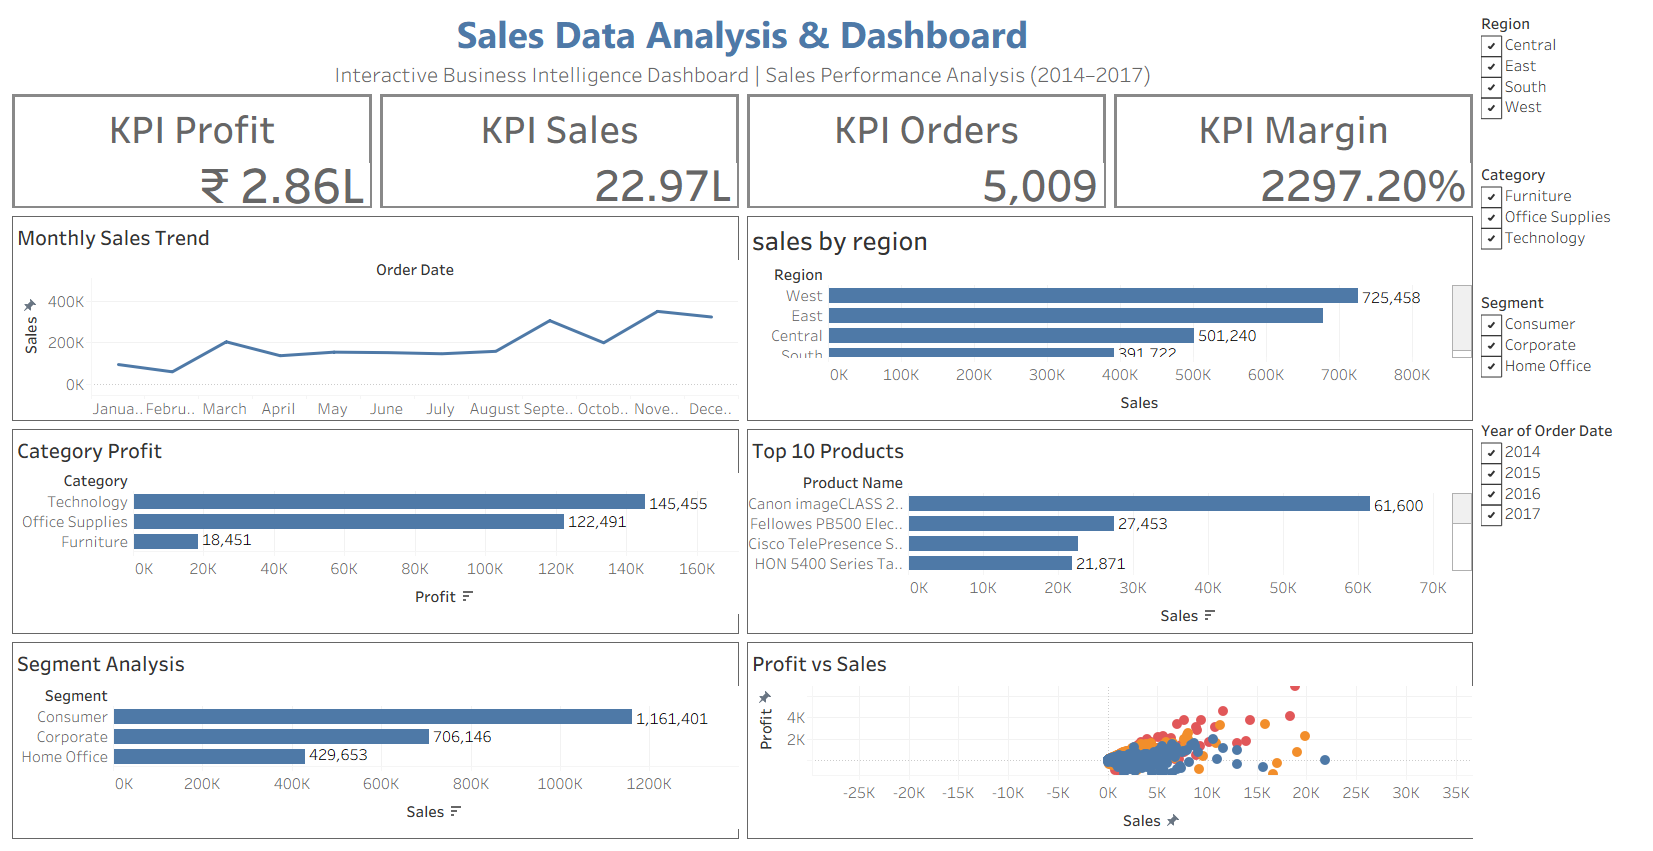

What the dashboard file says about the page in this screenshot:
{"tool":"tableau","page":{"name":"Sales Data Analysis Dashboard","canvas":[1000,1000],"units":"permille","ordinal":0},"visuals":[{"type":"text","box":[4.8,9.4,888.7,58.8]},{"type":"filter","title":"sales by region","param":"[federated.1exz7og119kxcv17dqa1x114gwuo].[none:Region:nk]","box":[893.5,9.4,101.6,177.4]},{"type":"text","box":[4.8,68.2,888.7,37.6]},{"type":"worksheet","title":"KPI Profit","mark":"Automatic","box":[4.8,105.8,222.6,143.4]},{"type":"worksheet","title":"KPI Sales","mark":"Automatic","box":[227.5,105.8,222,143.4]},{"type":"worksheet","title":"KPI Orders","mark":"Automatic","box":[449.5,105.8,222,143.4]},{"type":"worksheet","title":"KPI Margin","mark":"Automatic","box":[671.5,105.8,222,143.4]},{"type":"filter","title":"sales by region","param":"[federated.1exz7og119kxcv17dqa1x114gwuo].[none:Category:nk]","box":[893.5,186.8,101.6,150.4]},{"type":"worksheet","title":"Monthly Sales Trend","mark":"Automatic","rows":["Sales"],"cols":["Order Date"],"box":[4.8,249.1,444.6,250.3]},{"type":"worksheet","title":"sales by region","mark":"Automatic","rows":["Region"],"cols":["Sales"],"box":[449.4,249.1,444.1,250.3]},{"type":"filter","title":"sales by region","param":"[federated.1exz7og119kxcv17dqa1x114gwuo].[none:Segment:nk]","box":[893.5,337.2,101.6,150.4]},{"type":"filter","title":"sales by region","param":"[federated.1exz7og119kxcv17dqa1x114gwuo].[yr:Order Date:ok]","box":[893.5,487.7,101.6,177.4]},{"type":"worksheet","title":"Category Profit","mark":"Automatic","rows":["Category"],"cols":["Profit"],"box":[4.8,499.4,444.6,250.3]},{"type":"worksheet","title":"Top 10 Products","mark":"Automatic","rows":["Product Name"],"cols":["Sales"],"box":[449.4,499.4,444.1,250.3]},{"type":"worksheet","title":"Segment Analysis","mark":"Automatic","rows":["Segment"],"cols":["Sales"],"box":[4.8,749.7,444.6,240.9]},{"type":"worksheet","title":"Profit vs Sales","mark":"Circle","rows":["Profit"],"cols":["Sales"],"box":[449.4,749.7,444.1,240.9]}]}

Visuals, with their boxes on the dashboard's canvas, which has no fixed pixel size, in thousandths of its width and height (x1, y1, x2, y2). These are canvas units, not pixel positions in the 1653x851 screenshot, which may show the page scaled, cropped or inside an application window:
text: (5,9,894,68)
"sales by region" filter: (894,9,995,187)
text: (5,68,894,106)
"KPI Profit" worksheet: (5,106,227,249)
"KPI Sales" worksheet: (228,106,450,249)
"KPI Orders" worksheet: (450,106,672,249)
"KPI Margin" worksheet: (672,106,894,249)
"sales by region" filter: (894,187,995,337)
"Monthly Sales Trend" worksheet: (5,249,449,499)
"sales by region" worksheet: (449,249,894,499)
"sales by region" filter: (894,337,995,488)
"sales by region" filter: (894,488,995,665)
"Category Profit" worksheet: (5,499,449,750)
"Top 10 Products" worksheet: (449,499,894,750)
"Segment Analysis" worksheet: (5,750,449,991)
"Profit vs Sales" worksheet (Circle marks): (449,750,894,991)
